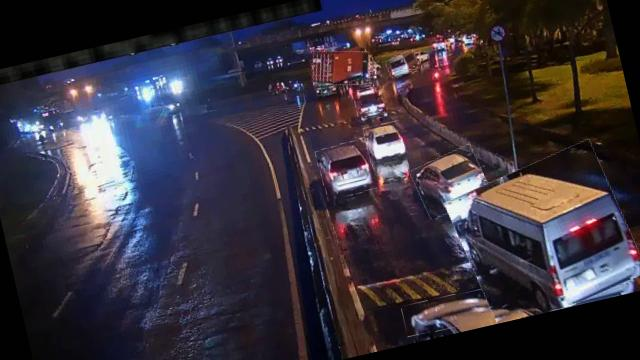Bus: (444, 140, 640, 327), (384, 50, 420, 78)
Car: (402, 282, 518, 338), (409, 145, 492, 218), (316, 139, 378, 201), (364, 121, 406, 164), (352, 85, 388, 123)
Truck: (308, 43, 374, 94)
